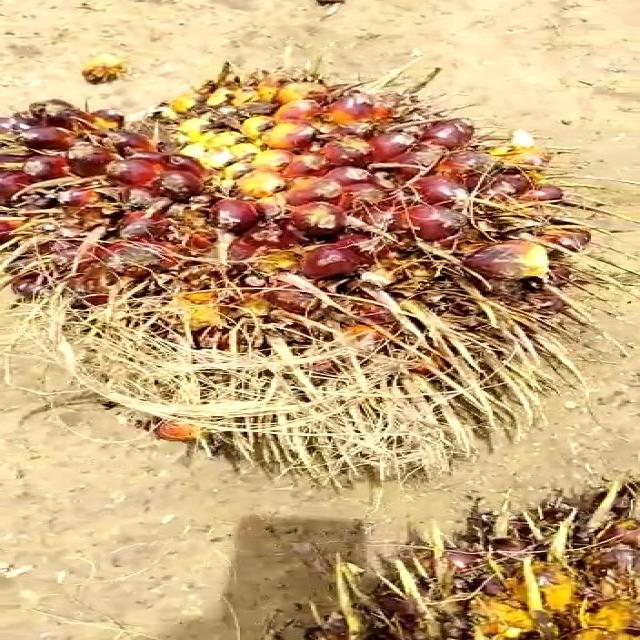palm oil: (0, 74, 627, 473)
